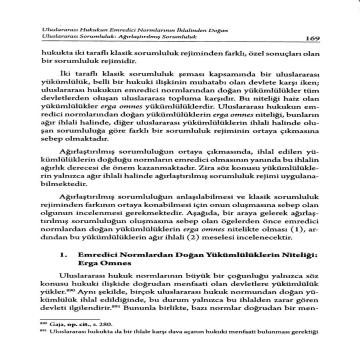footer: (47, 322, 323, 337)
header: (38, 25, 231, 40)
